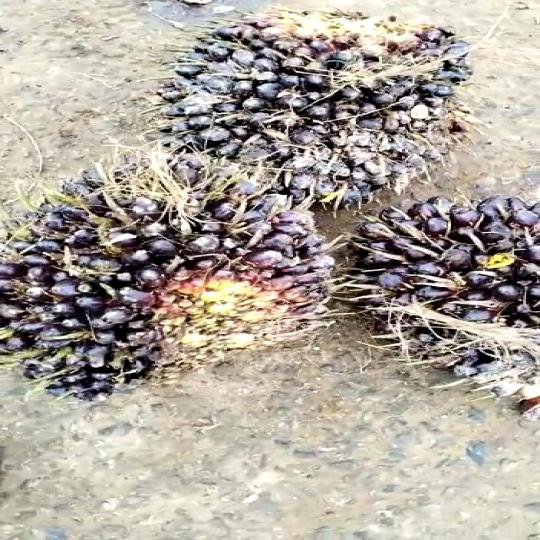mentah: (0, 150, 328, 396), (157, 2, 471, 211)
